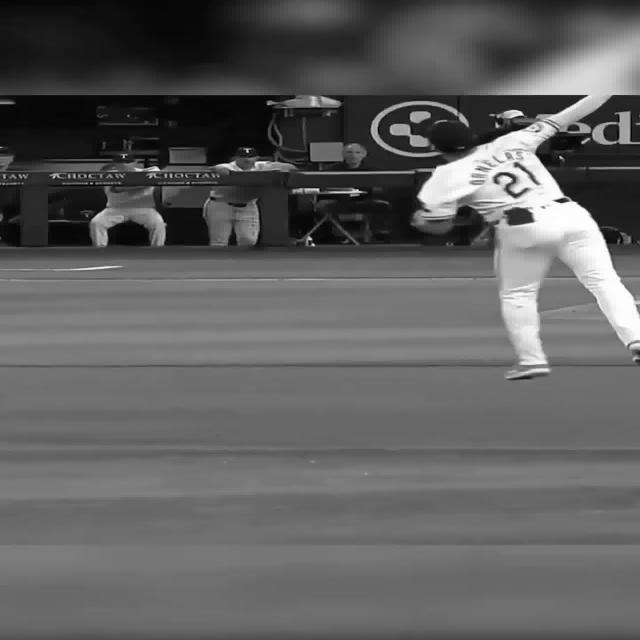baseball_glove: (409, 208, 455, 235)
shoe: (503, 364, 550, 379), (626, 340, 640, 366)
